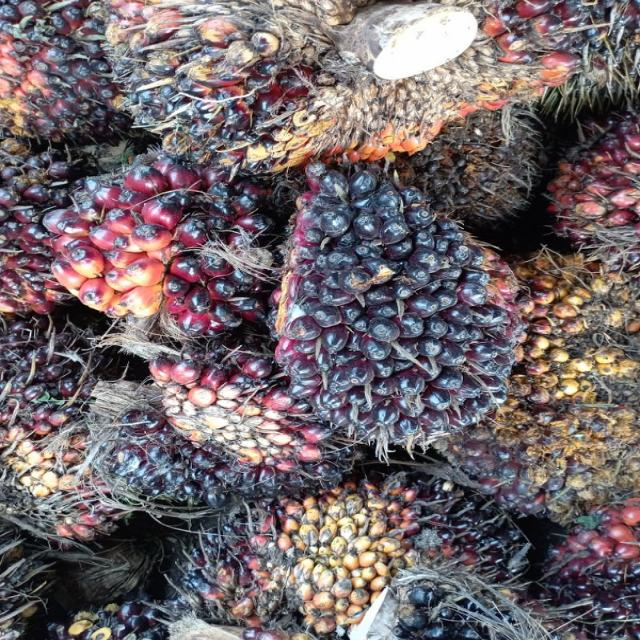fraksi 00: (271, 166, 524, 459)
fraksi 1: (35, 144, 306, 348)
